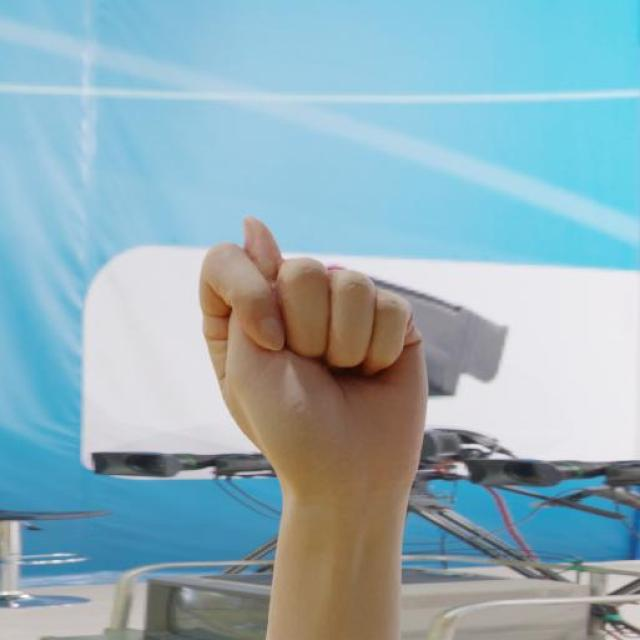T: (194, 214, 432, 505)
